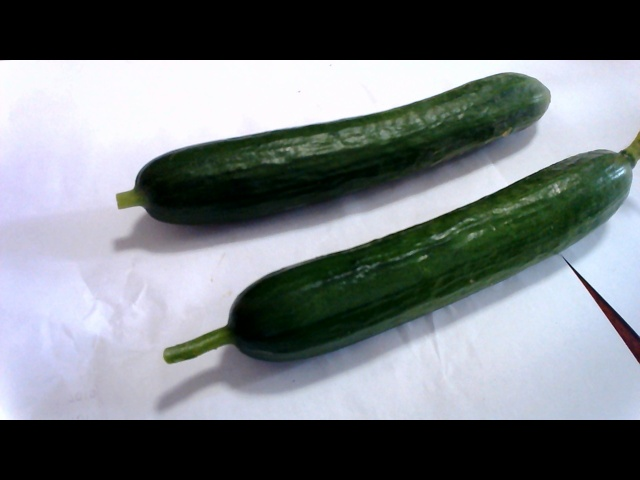cucumber: (180, 148, 640, 357), (115, 67, 564, 212)
